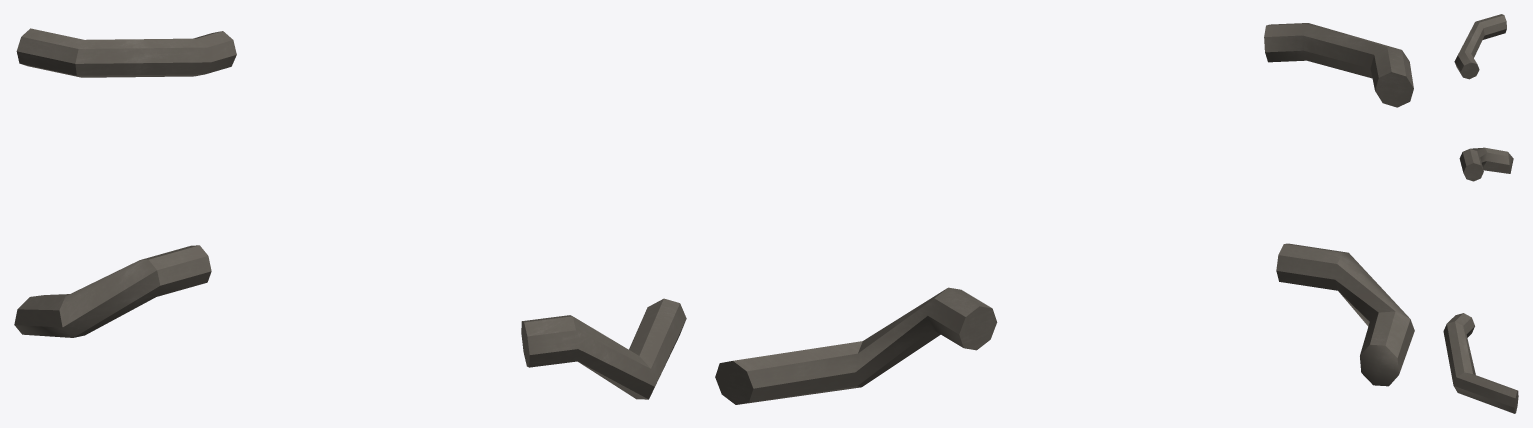
The model's file is CryoPipes.glb.
3 renders of one model, left to right at view 1: azimuth 30°, elevation 25°; view 2: azimuth 150°, elevation 25°; view 3: azimuth 270°, elevation 25°, orthographic. The views are drawn at different scales.
Visible parts, largest first — view 1: CryoPipes; view 2: CryoPipes; view 3: CryoPipes.
Boxes of the visible parts, x1,y1,x2,y2 form: CryoPipes: [14, 28, 686, 399]; CryoPipes: [715, 23, 1414, 404]; CryoPipes: [1443, 14, 1518, 413].
Size of the model in its own units: 3.78 by 2.54 by 0.7185.
Materials: 1 (1 with a texture image).
